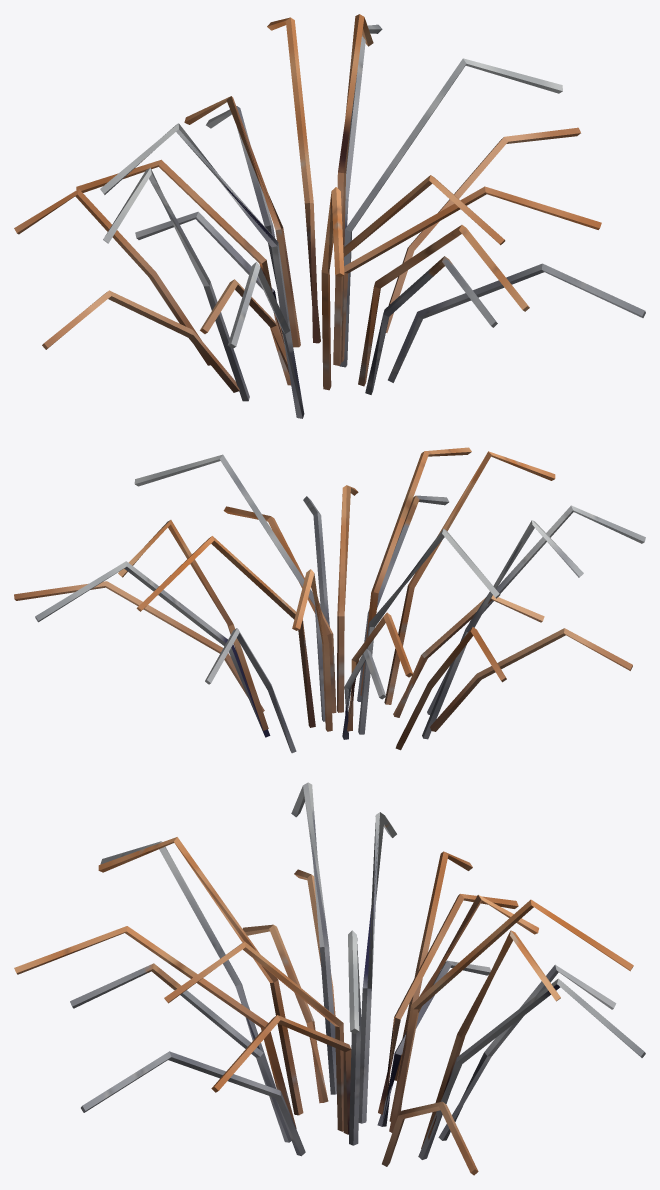
File: GrassWire.glb
3 views of the same model, one above another, from view 1: azimuth 30°, elevation 25°; view 2: azimuth 150°, elevation 25°; view 3: azimuth 270°, elevation 25° (orthographic). The views are drawn at different scales.
Parts seen in each view (by area): view 1: Copper, Steel; view 2: Copper, Steel; view 3: Copper, Steel.
Part boxes in pixels (x1,y1,x2,y2): Copper: (14, 14, 601, 392); Steel: (100, 24, 645, 418); Copper: (14, 447, 632, 750); Steel: (35, 454, 645, 753); Copper: (14, 837, 633, 1175); Steel: (70, 782, 645, 1159).
Size of the model in its own units: 2.37 by 1.02 by 2.14.
Materials: 2 (2 with a texture image).
